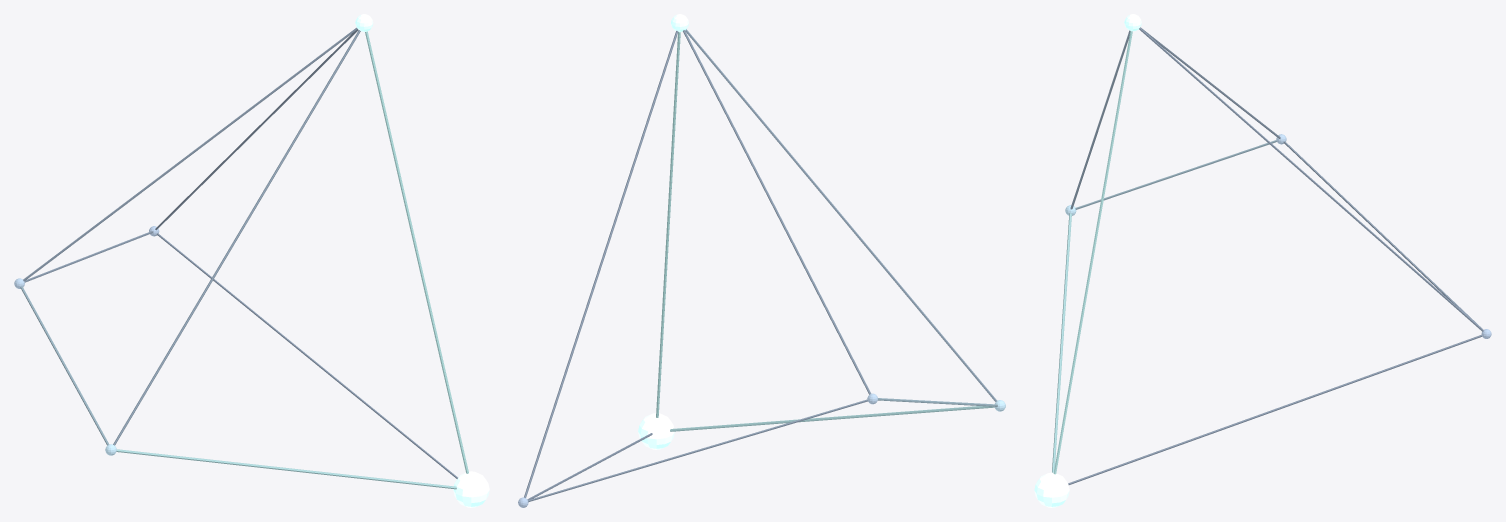
Rendered from turntable.glb.
3 views of the same model, side by side, from view 1: azimuth 30°, elevation 25°; view 2: azimuth 150°, elevation 25°; view 3: azimuth 270°, elevation 25° (orthographic). The views are drawn at different scales.
Parts seen in each view (by area): view 1: brain; view 2: brain; view 3: brain.
Boxes of the visible parts, bbox=[...] form: brain: bbox=[14, 14, 489, 507]; brain: bbox=[518, 14, 1005, 507]; brain: bbox=[1034, 14, 1491, 507].
Bounding box in the file's own units: 1.47 × 1.81 × 1.63.
